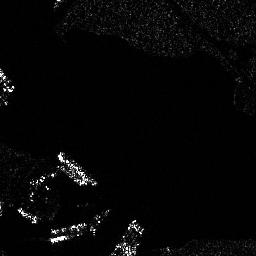ship: (56, 150, 98, 187), (49, 231, 83, 243), (17, 207, 38, 224)
